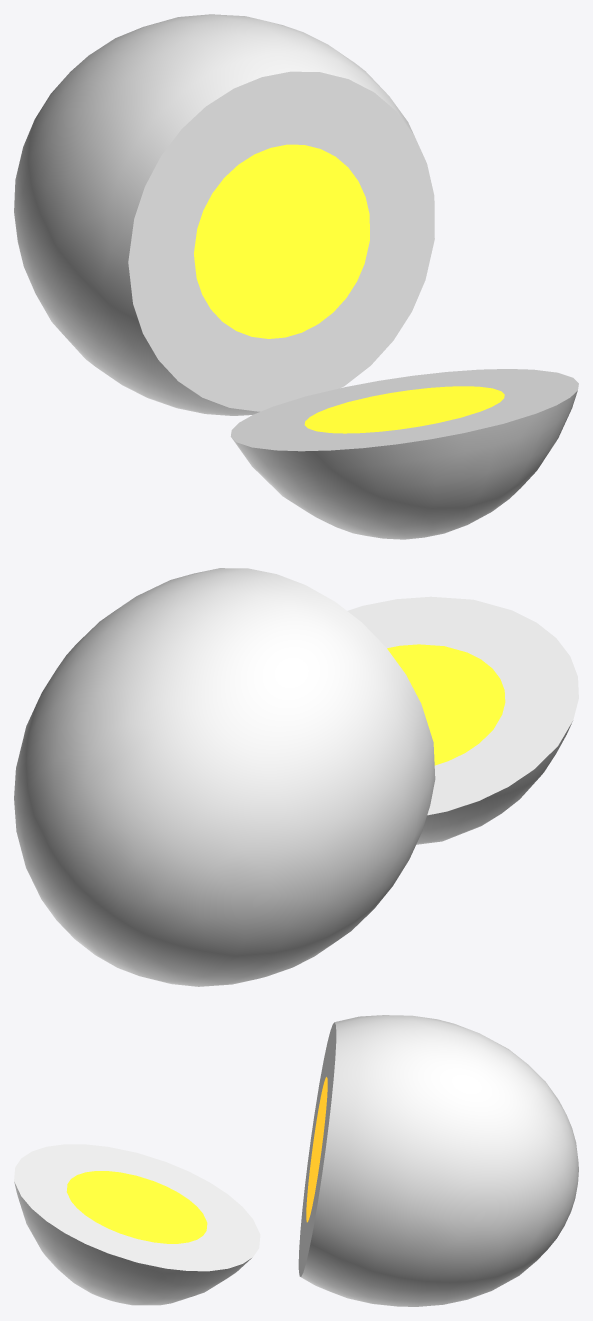
Rendered from egg_cut.gltf.
3 renders of one model, top to bottom at view 1: azimuth 30°, elevation 25°; view 2: azimuth 150°, elevation 25°; view 3: azimuth 270°, elevation 25°, orthographic. The views are drawn at different scales.
Visible parts, largest first — view 1: Sphere.002; view 2: Sphere.002; view 3: Sphere.002.
Part boxes in pixels (x1,y1,x2,y2): Sphere.002: (14,14,578,539); Sphere.002: (14,568,578,986); Sphere.002: (14,1015,578,1306).
Size of the model in its own units: 2.04 by 2.04 by 3.92.
